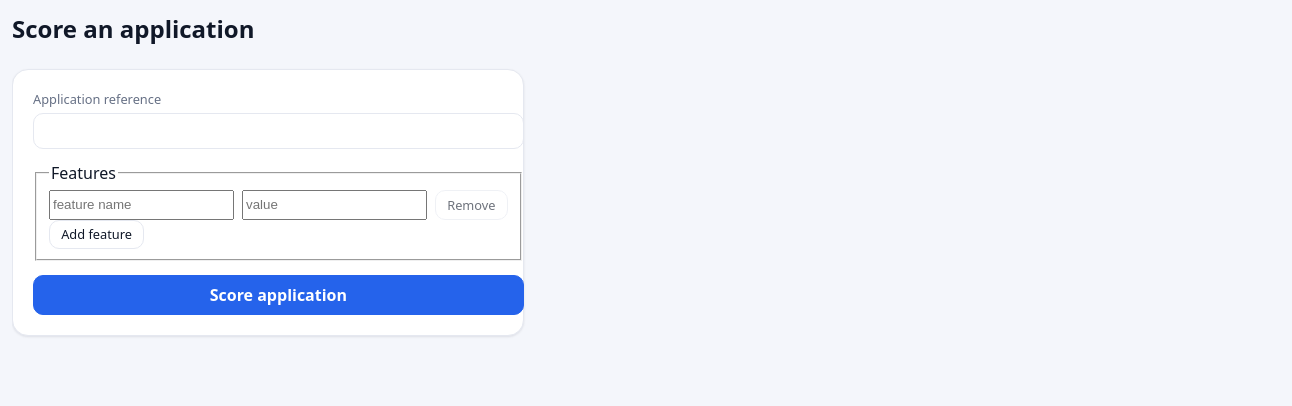
Test: ScorePage › shows a clear message, not a crash, when the caller lacks permission
Step 1. Type "APP-1" into the field labelled "Application reference" → (278,131), box [33, 113, 524, 149]
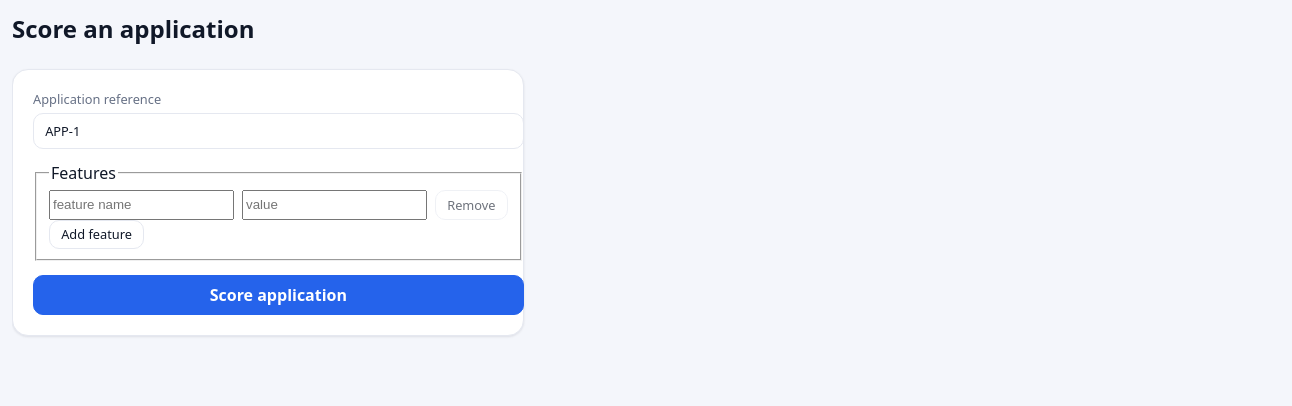
Step 2. Click the button "Score application" → (278,295), box [33, 275, 524, 315]
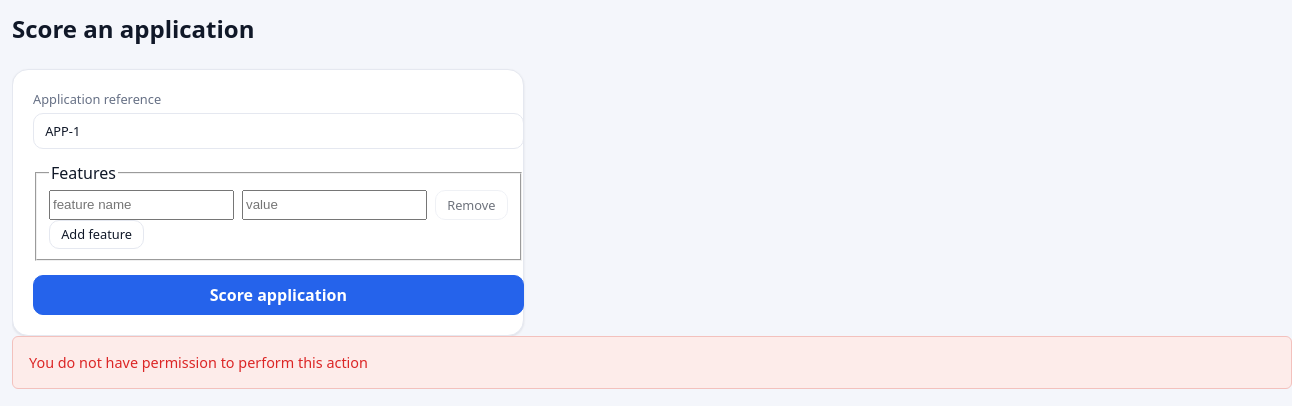
Expected: the message shows "permission", [29, 353, 368, 372]
